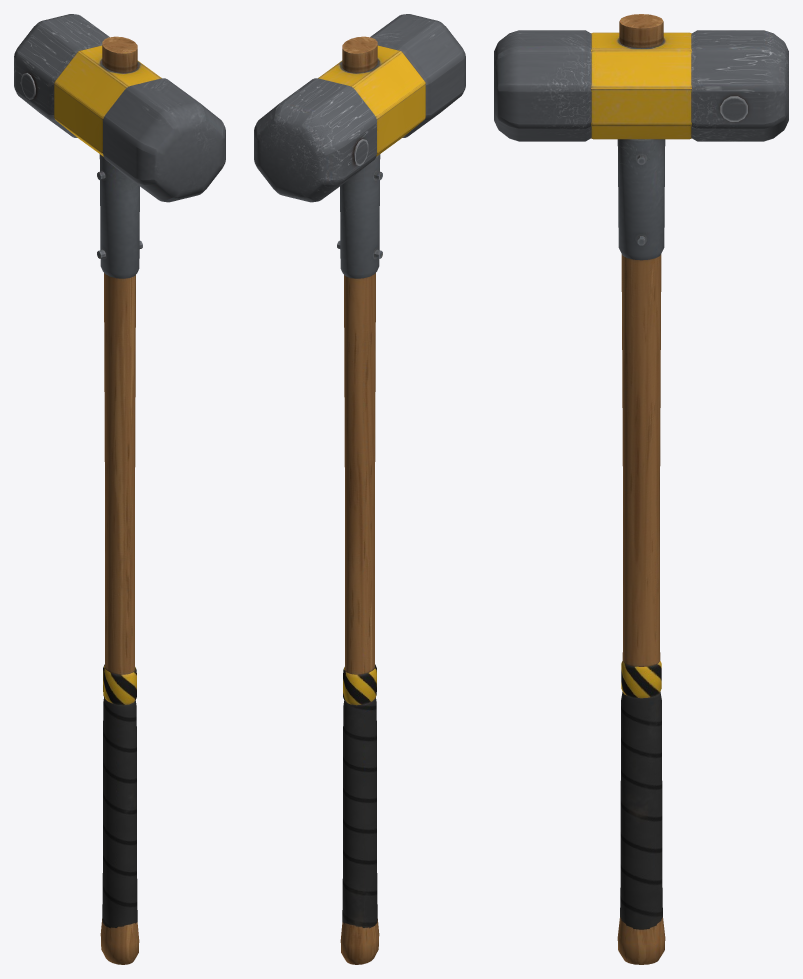
File: hammer.glb
3 renders of one model, left to right at view 1: azimuth 30°, elevation 25°; view 2: azimuth 150°, elevation 25°; view 3: azimuth 270°, elevation 25°, orthographic. The views are drawn at different scales.
Visible parts, largest first — view 1: hammer; view 2: hammer; view 3: hammer.
Boxes of the visible parts, x1,y1,x2,y2 form: hammer: (14,14,225,964); hammer: (254,14,465,964); hammer: (494,14,788,964).
Size of the model in its own units: 0.0936 by 0.87 by 0.248.
Materials: 6 (6 with a texture image).
